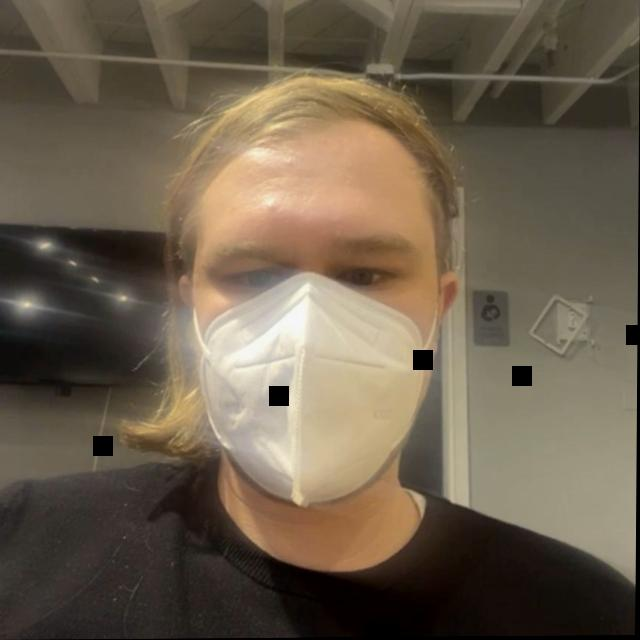Mask: (115, 57, 512, 587)
